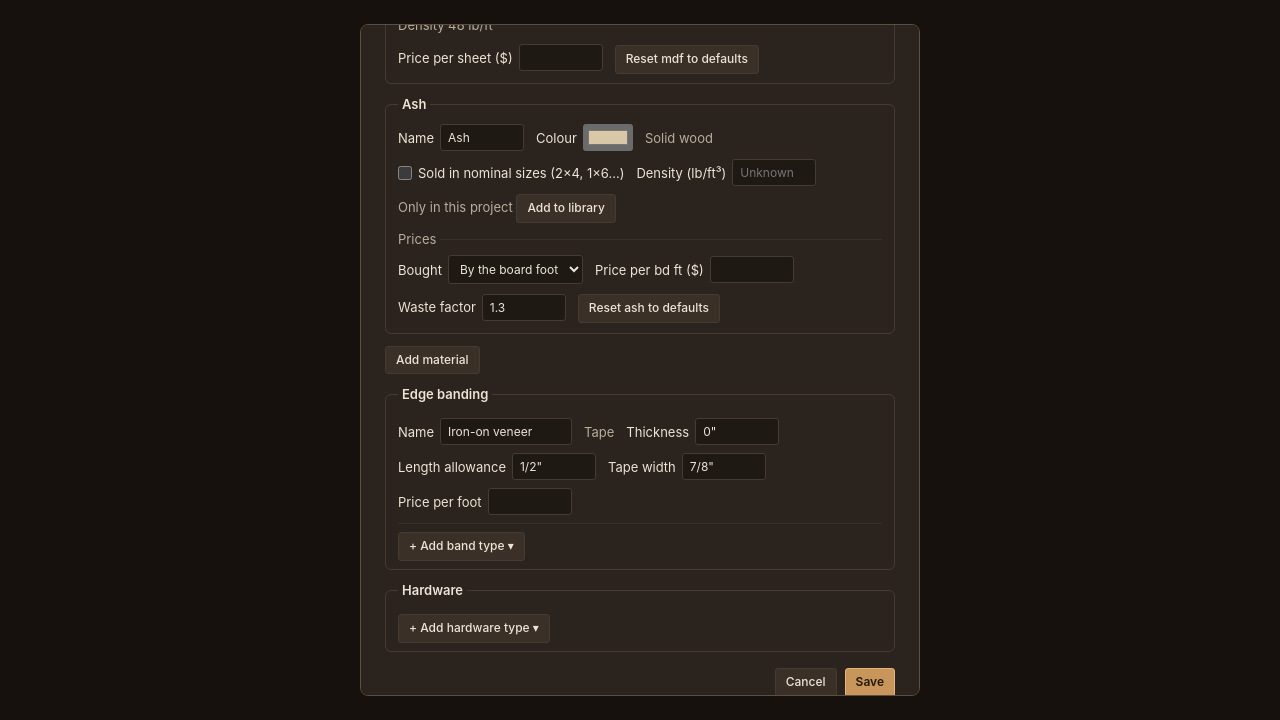
MaterialsDialog — definitions (custom materials spec §4.1) › refuses a duplicate label and disables Save
This screenshot has width=1280, height=720.
(page scrolled)
Click the button "Add material": (432, 360) [385,346,480,374]
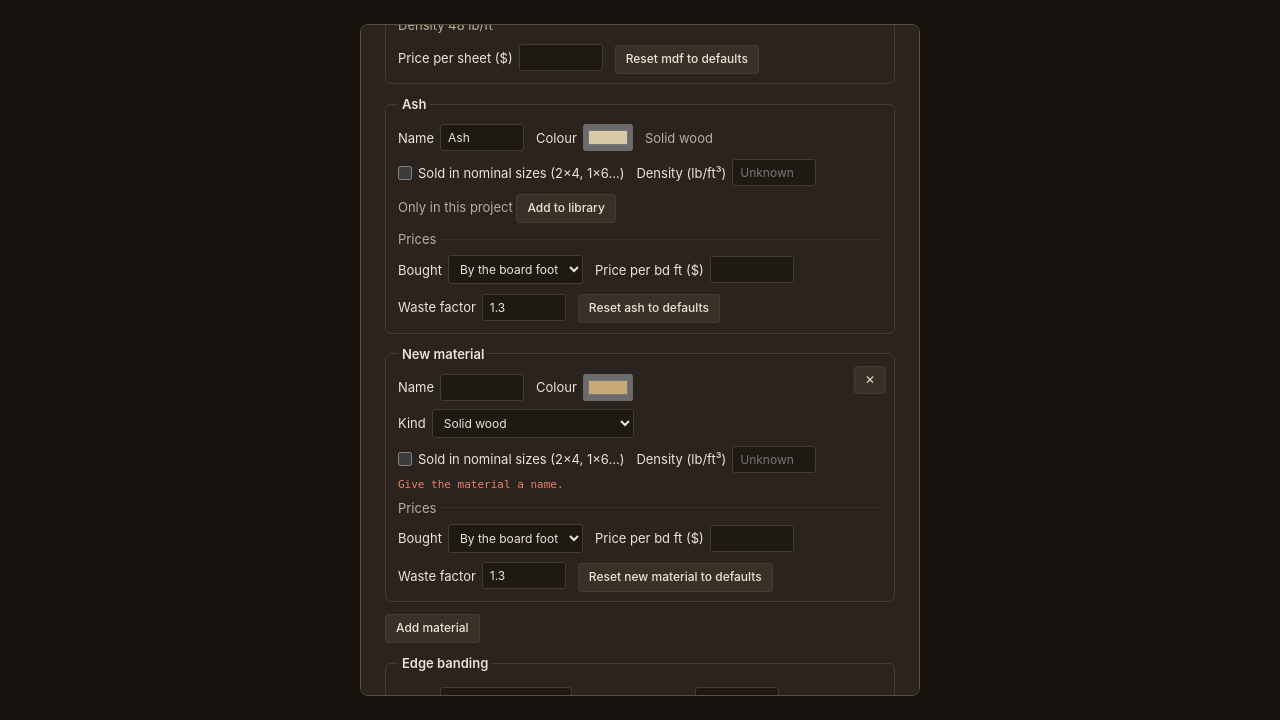
In the field named "New material: name": (482, 387) [440,374,524,401], type " ash"
(page scrolled)
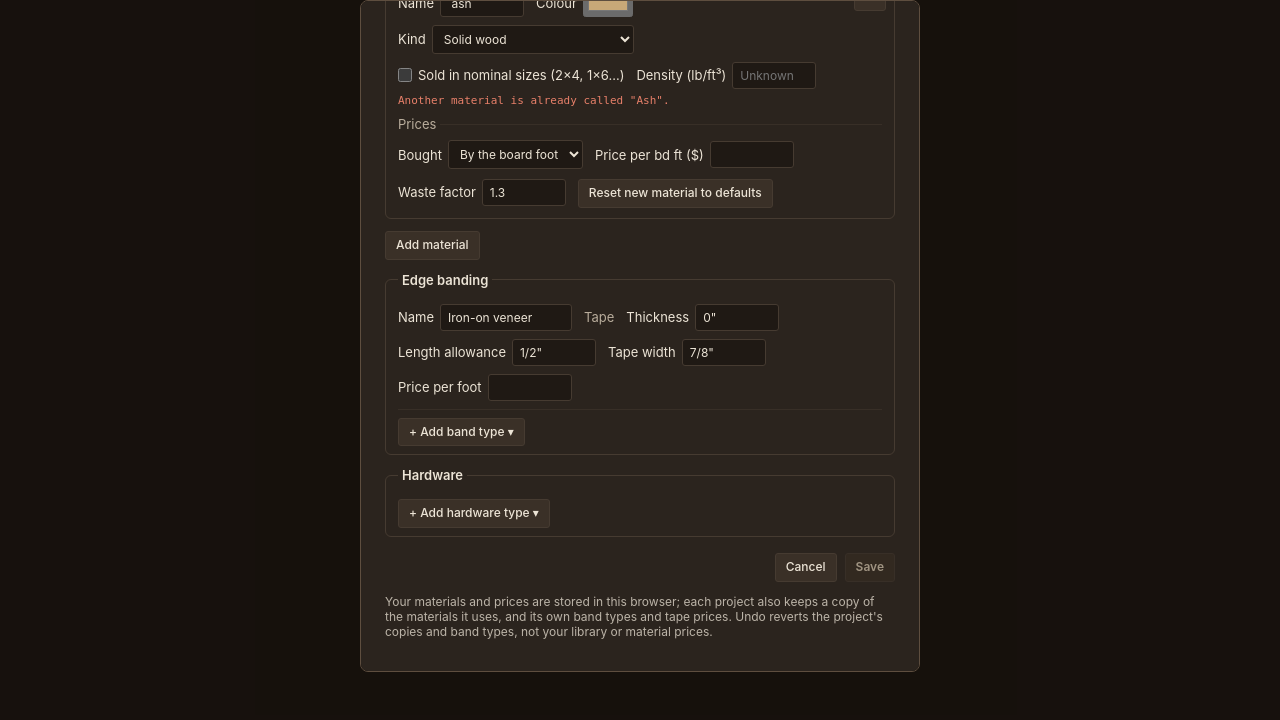
Result: the text "Another material is already called \"Ash\"." is shown at [398,94,670,107]
Result: the button "Save" is disabled at [845,553,895,582]
